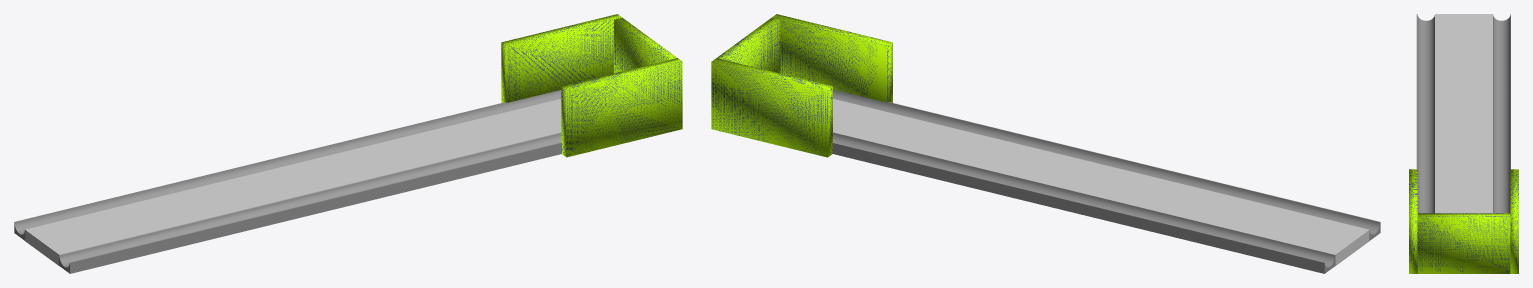
File: newarena.dae
3 views of the same model, side by side, from view 1: azimuth 30°, elevation 25°; view 2: azimuth 150°, elevation 25°; view 3: azimuth 270°, elevation 25° (orthographic). The views are drawn at different scales.
Visible parts, largest first — view 1: instance_0, staticmesh_001, instance_37, instance_36, staticmesh, instance_35; view 2: instance_0, staticmesh, instance_36, instance_37, staticmesh_001, instance_35; view 3: instance_0, instance_35, staticmesh_001, staticmesh, instance_36, instance_37.
Boxes of the visible parts, x1,y1,x2,y2 form: instance_0: (25,99,561,265); staticmesh_001: (59,133,561,273); instance_37: (561,58,682,157); instance_36: (501,14,622,102); staticmesh: (14,90,561,240); instance_35: (614,17,676,73); instance_0: (833,99,1369,265); staticmesh: (832,133,1335,273); instance_36: (711,58,832,157); instance_37: (772,14,892,102); staticmesh_001: (833,89,1380,240); instance_35: (717,17,780,73); instance_0: (1435,14,1492,213); instance_35: (1417,213,1510,273); staticmesh_001: (1416,14,1434,213); staticmesh: (1493,14,1510,213); instance_36: (1510,169,1518,273); instance_37: (1409,169,1417,273).
Bounding box in the file's own units: 26.68 × 4.95 × 2.83.
